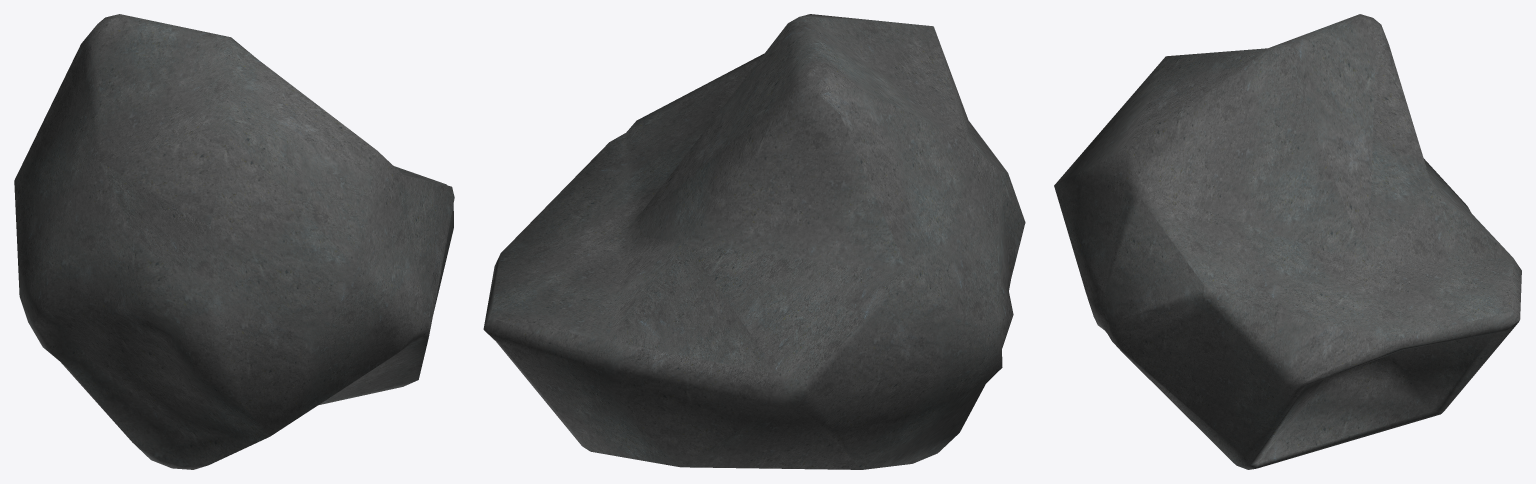
File: rock.007.obj
3 renders of one model, left to right at view 1: azimuth 30°, elevation 25°; view 2: azimuth 150°, elevation 25°; view 3: azimuth 270°, elevation 25°, orthographic. The views are drawn at different scales.
Bounding box in the file's own units: 1.48 × 1.33 × 1.54.
Materials: 1 (1 with a texture image).
